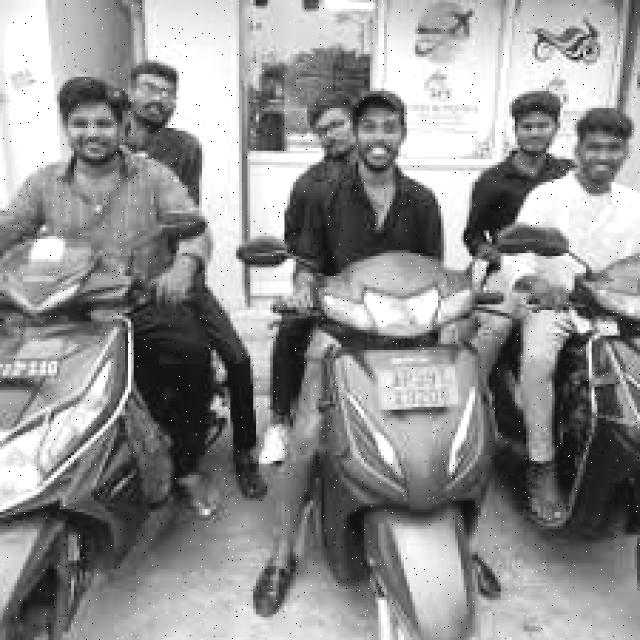Bike: (236, 239, 509, 639), (0, 230, 202, 640), (526, 245, 640, 603)
